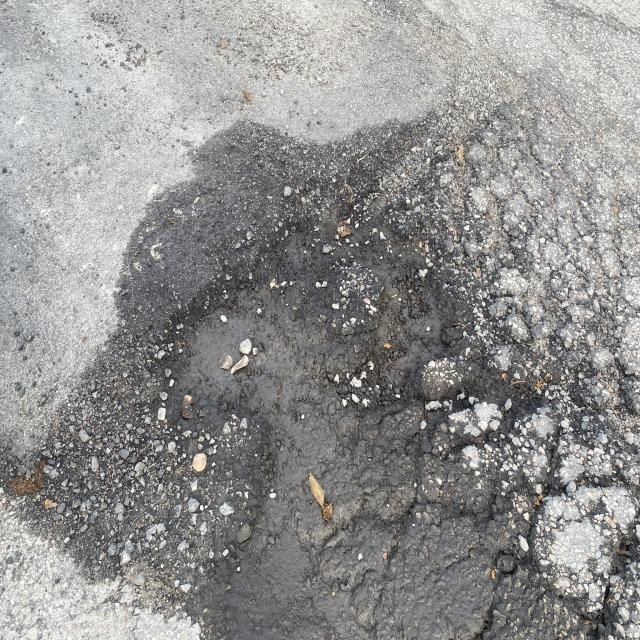Pothole: (325, 173, 513, 603), (113, 264, 307, 594)
